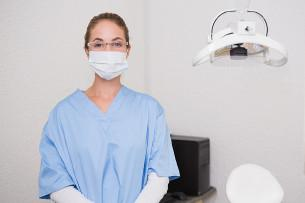OK: (87, 36, 132, 81)
